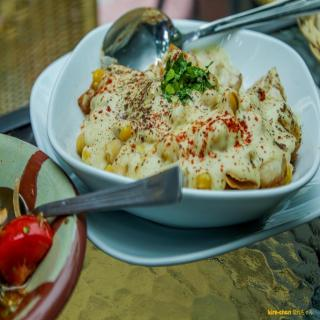Tomato: (0, 212, 55, 288)
